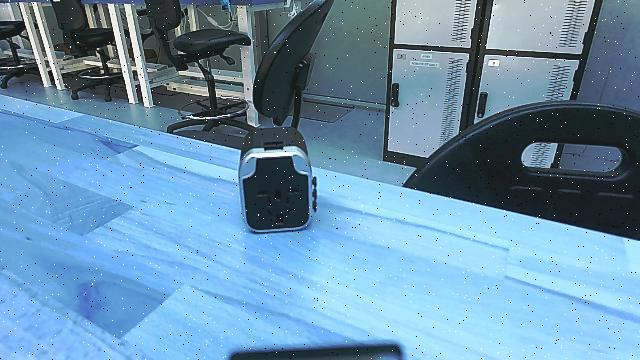adapter: (236, 126, 324, 242)
